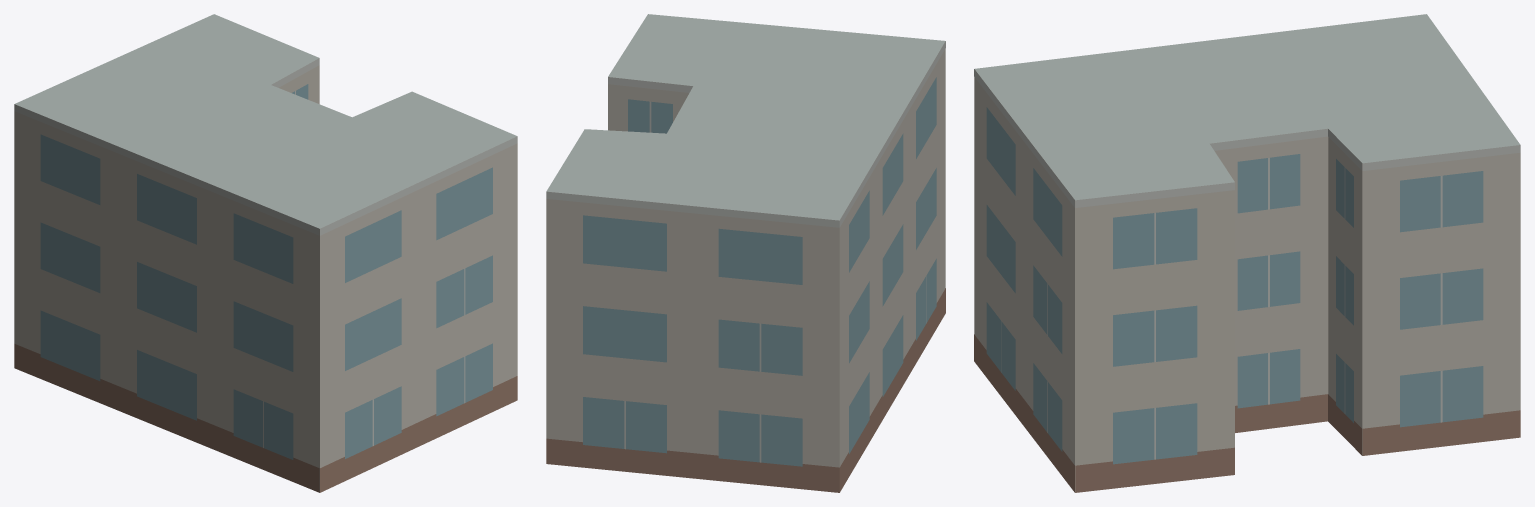
Rendered from survey-upis-32625158.glb.
3 renders of one model, left to right at view 1: azimuth 30°, elevation 25°; view 2: azimuth 150°, elevation 25°; view 3: azimuth 270°, elevation 25°, orthographic. The views are drawn at different scales.
Visible parts, largest first — view 1: survey-upis-32625158.tmp; view 2: survey-upis-32625158.tmp; view 3: survey-upis-32625158.tmp.
Boxes of the visible parts, left/top/right/bottom form: survey-upis-32625158.tmp: left=14, top=14, right=517, bottom=492; survey-upis-32625158.tmp: left=546, top=14, right=945, bottom=492; survey-upis-32625158.tmp: left=974, top=14, right=1520, bottom=492.
Bounding box in the file's own units: 12.51 × 9.15 × 15.5.
